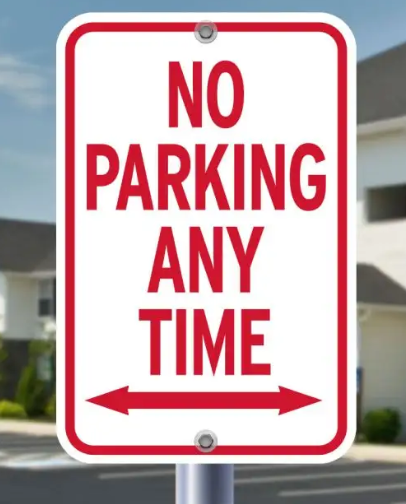No Parking Double Arrow: (78, 43, 331, 427)
